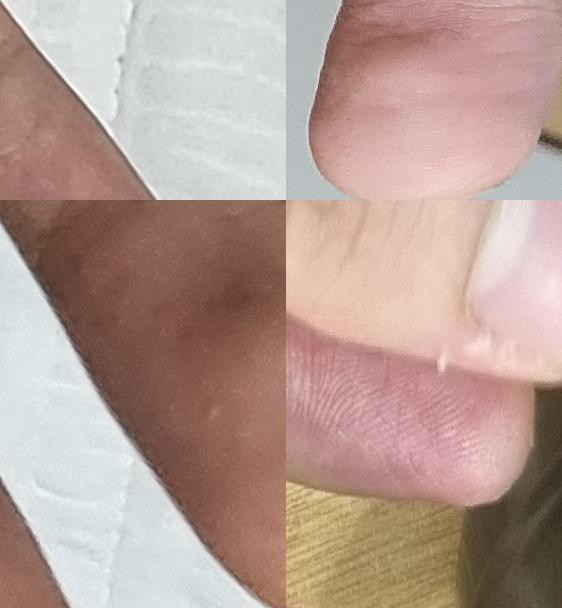Fingerprints: (45, 200, 286, 608), (308, 1, 561, 200), (286, 314, 535, 507), (0, 55, 156, 200)
